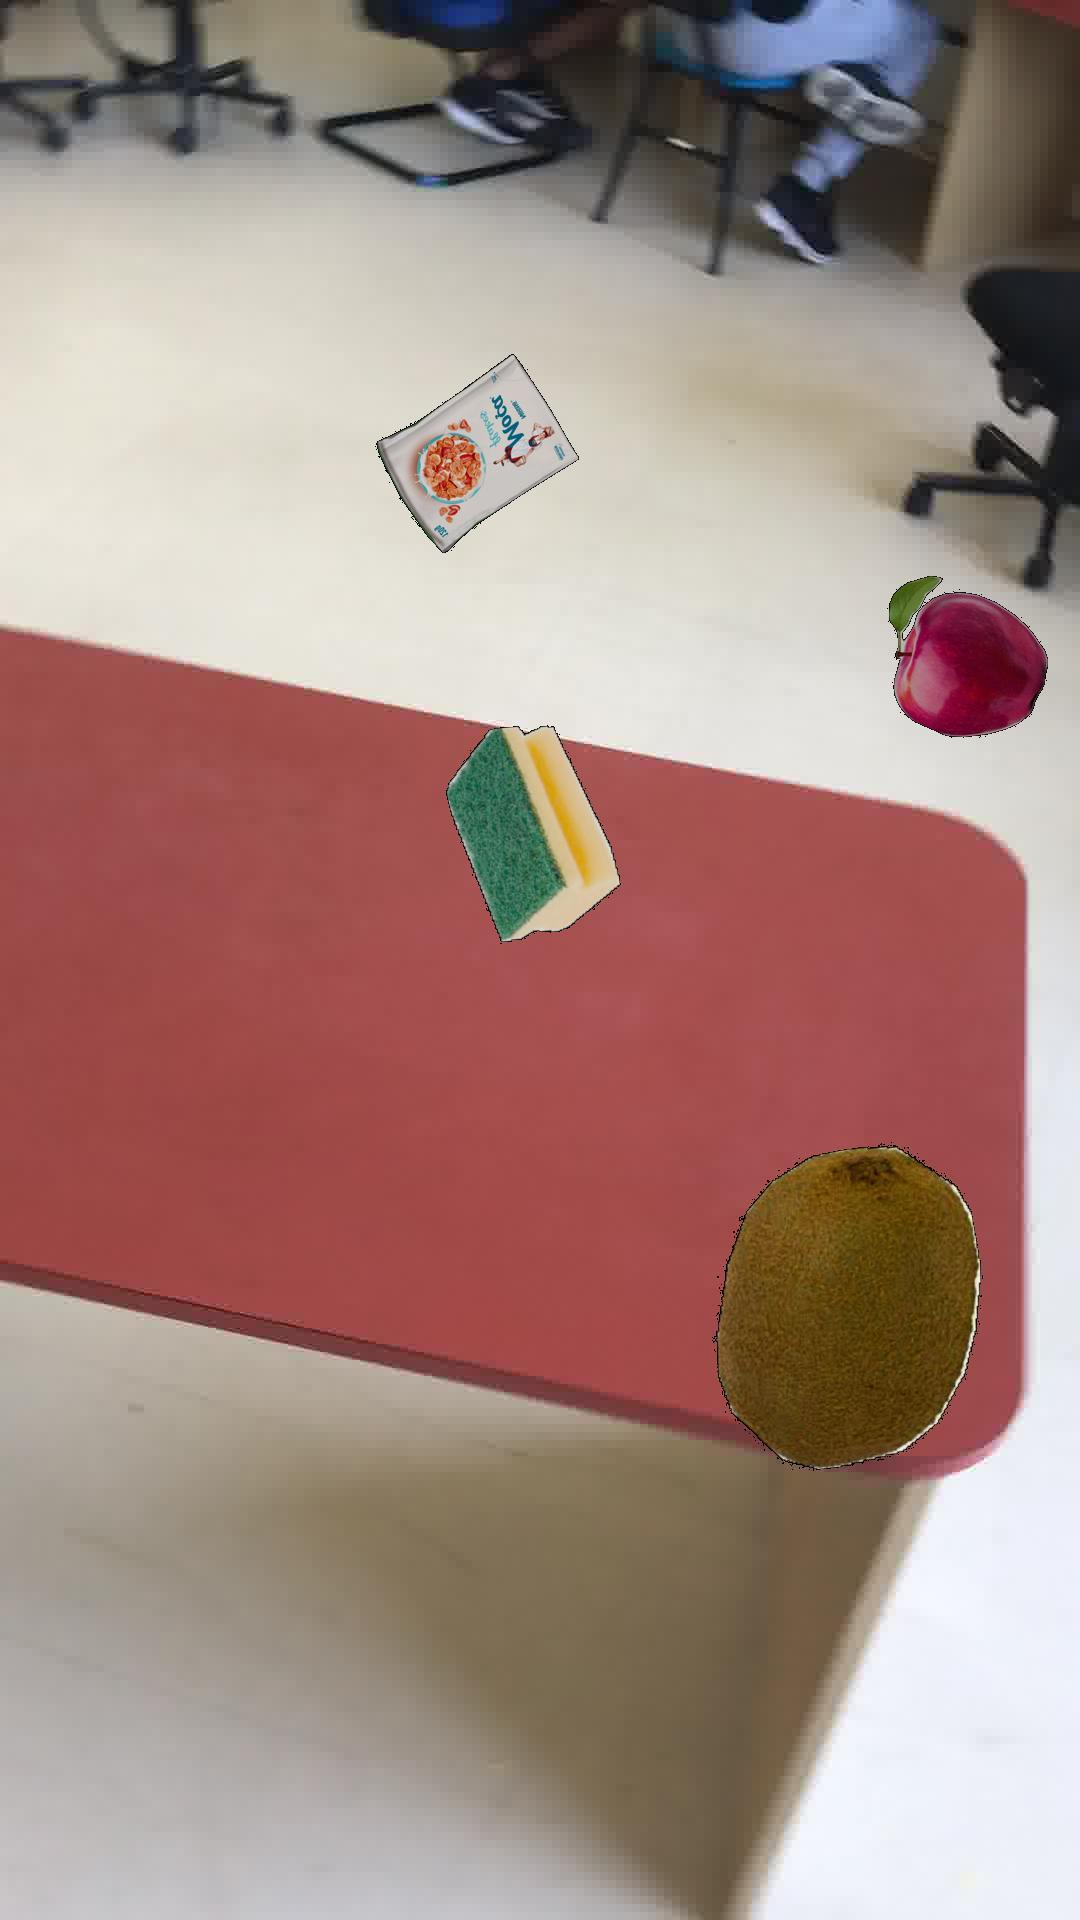apple: (887, 575, 1047, 737)
corn flakes: (375, 352, 578, 551)
kiwi: (712, 1143, 980, 1469)
sponge: (444, 724, 620, 940)
